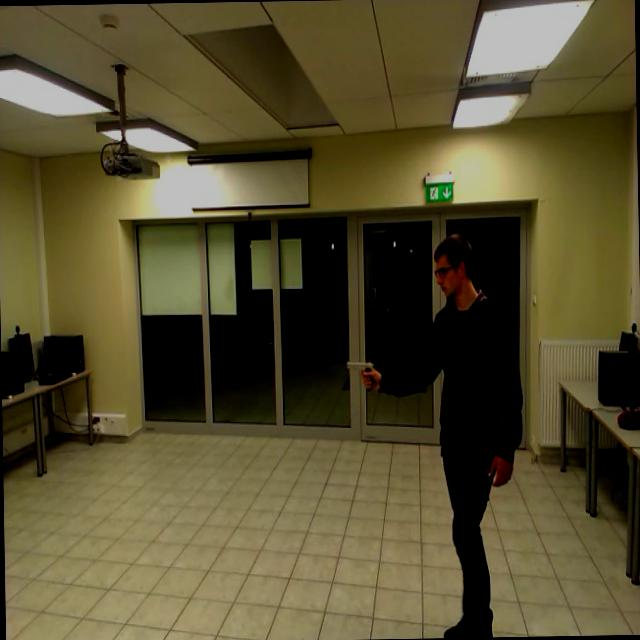handgun: (344, 350, 381, 391)
